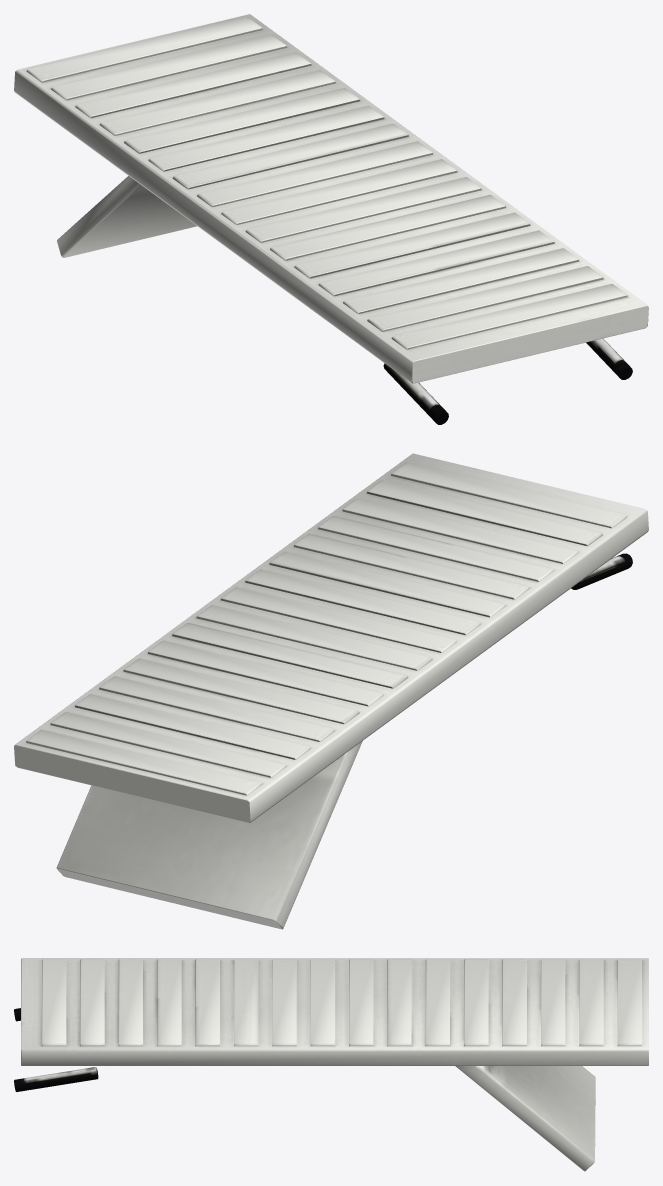
The model's file is LV_deck_chair.glb.
The picture shows the model from 3 angles, top to bottom: view 1: azimuth 30°, elevation 25°; view 2: azimuth 150°, elevation 25°; view 3: azimuth 270°, elevation 25°; orthographic projection. The views are drawn at different scales.
Parts seen in each view (by area): view 1: LV_deck_chair; view 2: LV_deck_chair; view 3: LV_deck_chair.
Boxes of the visible parts, left/top/right/bottom form: LV_deck_chair: left=14, top=14, right=648, bottom=424; LV_deck_chair: left=14, top=453, right=648, bottom=929; LV_deck_chair: left=14, top=958, right=648, bottom=1171.
Size of the model in its own units: 0.62 by 0.4071 by 1.82.
1 material, 1 textured.
